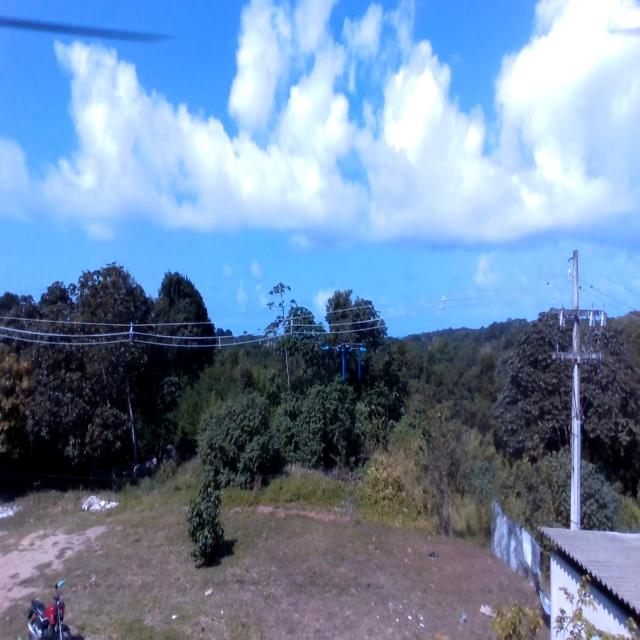-uav-: (328, 330, 379, 397)
